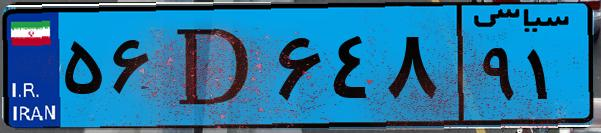1: (525, 38, 570, 115)
4: (330, 28, 385, 110)
5: (57, 26, 110, 100)
6: (270, 28, 330, 110), (110, 28, 158, 98)
8: (385, 28, 445, 110)
9: (475, 38, 525, 113)
D: (158, 12, 270, 120)
